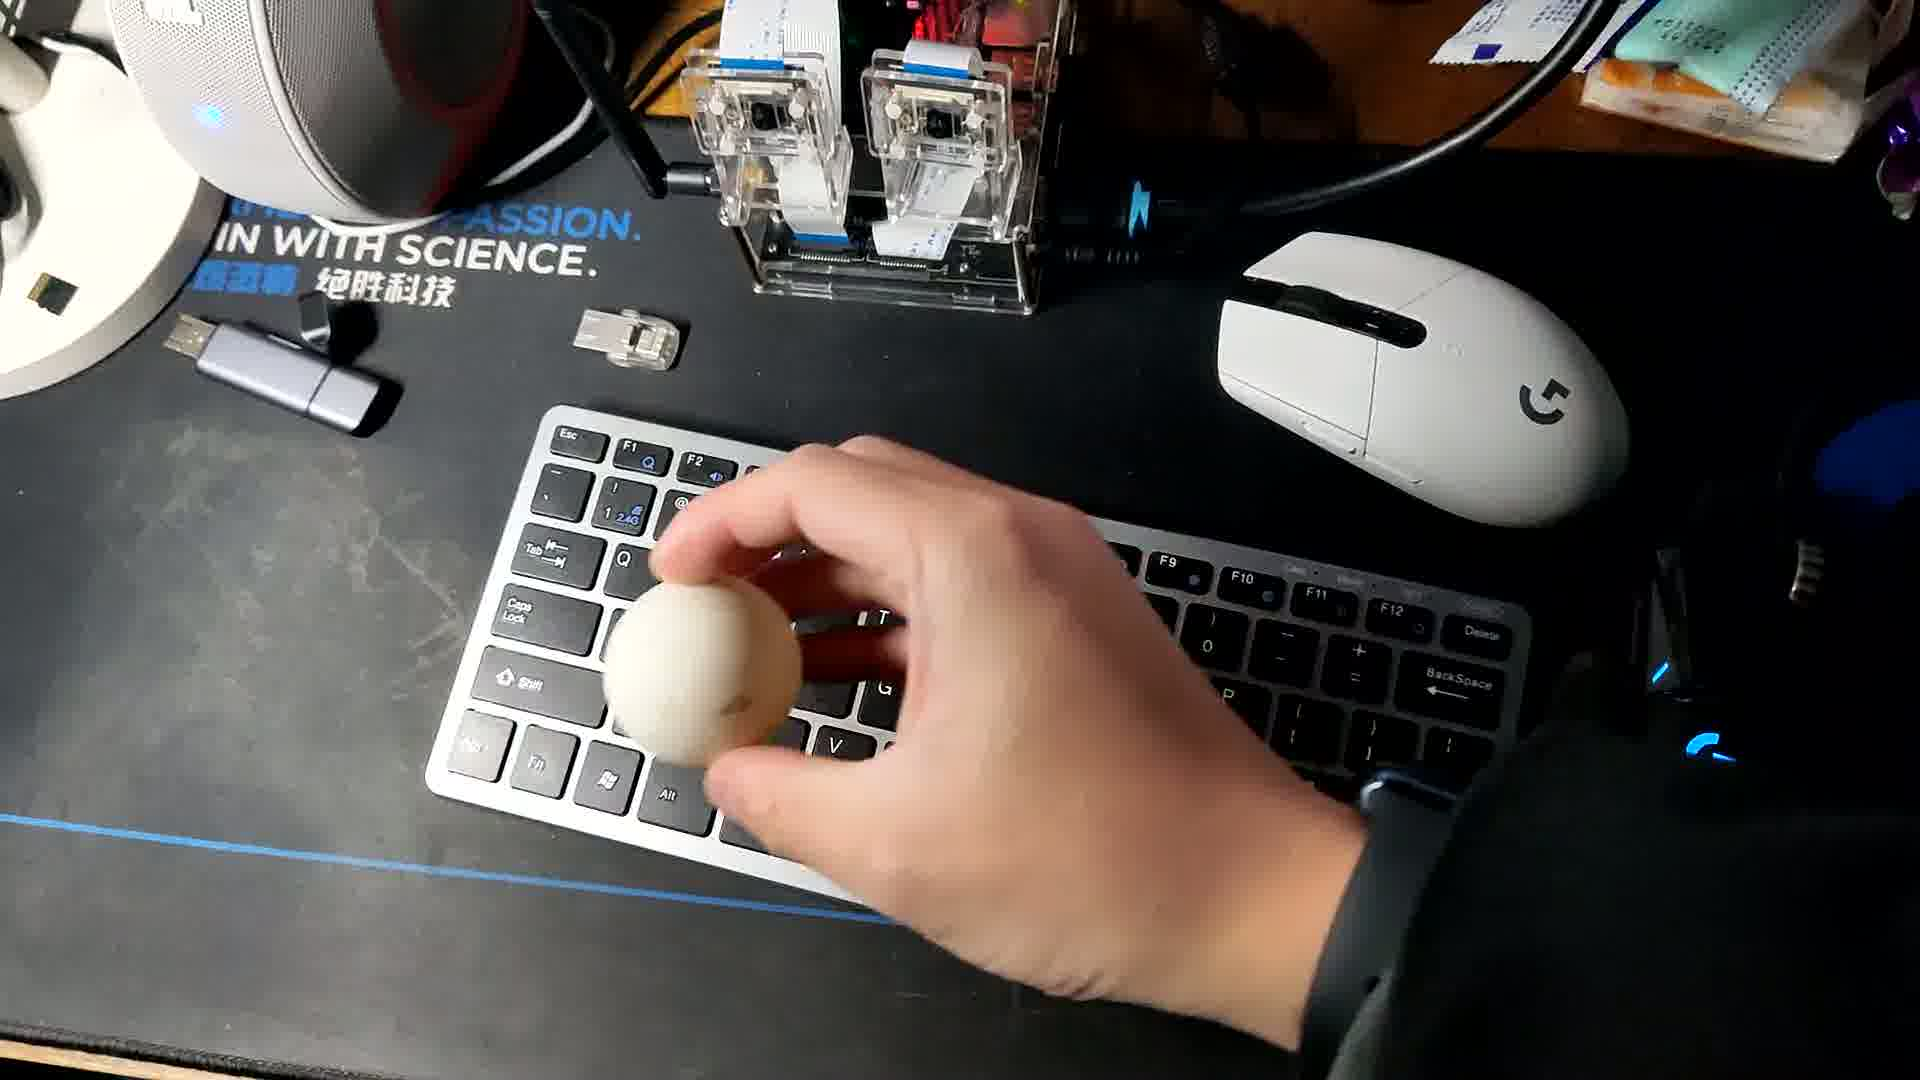Ball: (593, 578, 800, 753)
